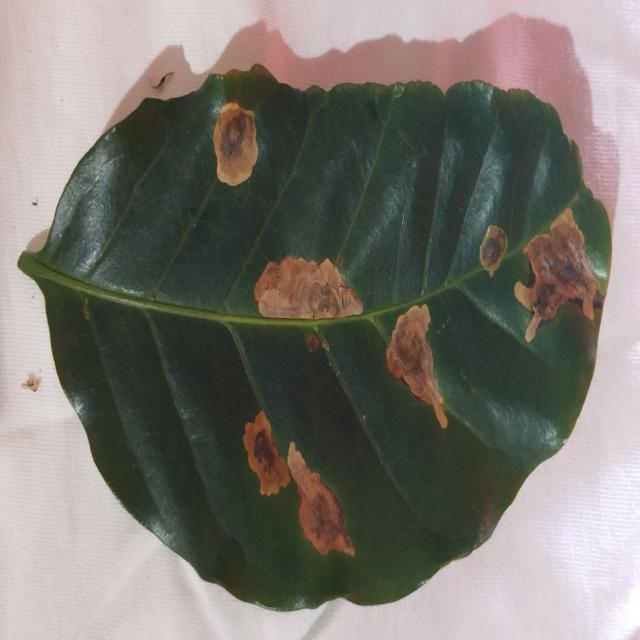Plaga-Minador: (17, 47, 613, 615)
